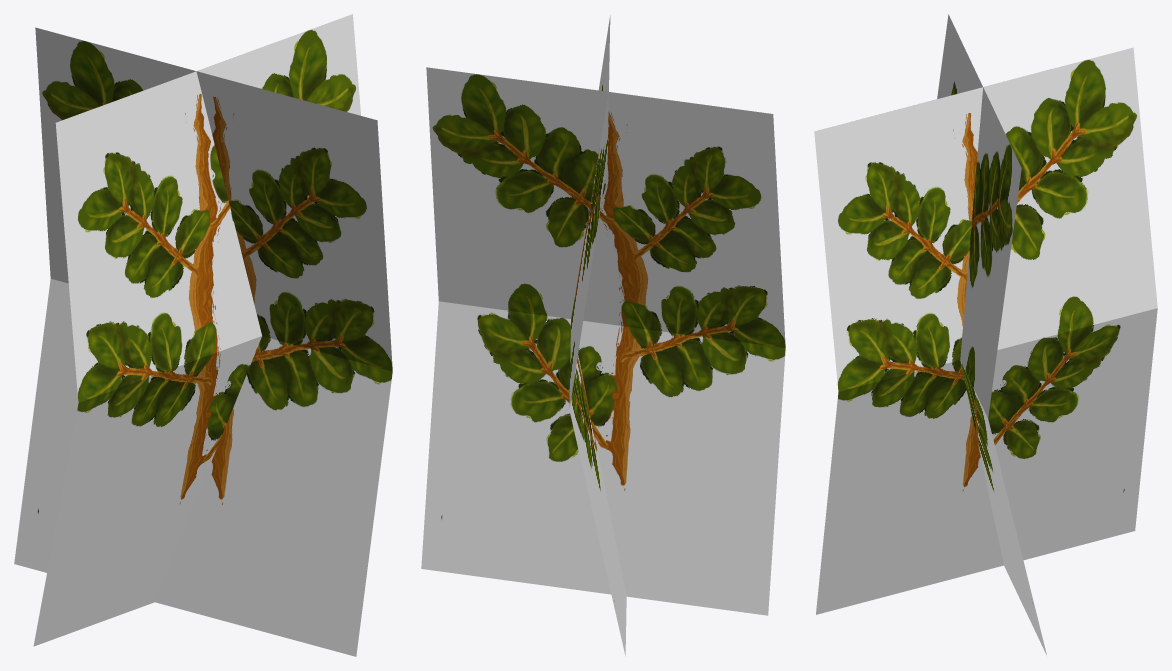
Rendered from DestroyedCarobBranch.fbx.
3 renders of one model, left to right at view 1: azimuth 30°, elevation 25°; view 2: azimuth 150°, elevation 25°; view 3: azimuth 270°, elevation 25°, orthographic. The views are drawn at different scales.
Visible parts, largest first — view 1: CarobLeafParticles3; view 2: CarobLeafParticles3; view 3: CarobLeafParticles3.
Part boxes in pixels (left/top/right/bottom): CarobLeafParticles3: left=14, top=14, right=392, bottom=656; CarobLeafParticles3: left=421, top=15, right=785, bottom=656; CarobLeafParticles3: left=814, top=14, right=1157, bottom=655.
Size of the model in its own units: 2.59 by 3.82 by 2.38.
